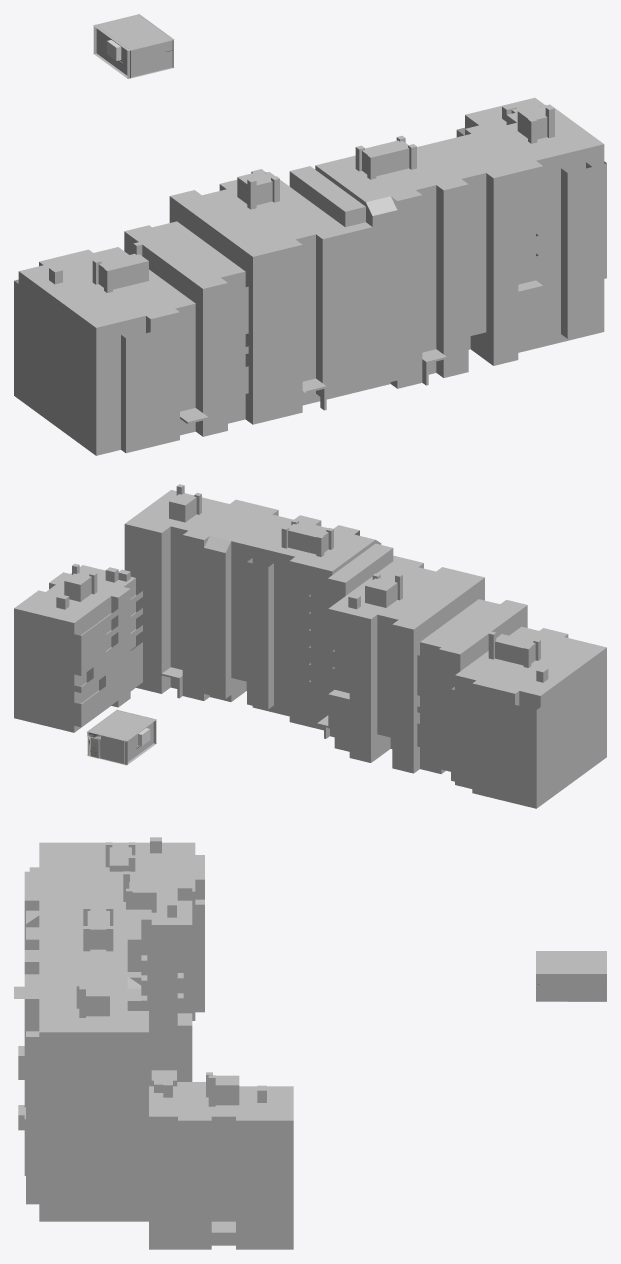
File: 卧室啊.fbx
3 renders of one model, top to bottom at view 1: azimuth 30°, elevation 25°; view 2: azimuth 150°, elevation 25°; view 3: azimuth 270°, elevation 25°, orthographic. The views are drawn at different scales.
Visible parts, largest first — view 1: Object_20, Object_28, Object_15; view 2: Object_20, Object_28, Object_15; view 3: Object_20, Object_28, Object_15.
Boxes of the visible parts, x1,y1,x2,y2 form: Object_20: [14, 97, 606, 455]; Object_28: [93, 26, 173, 78]; Object_15: [93, 14, 174, 50]; Object_20: [14, 484, 606, 808]; Object_28: [87, 720, 156, 764]; Object_15: [87, 709, 156, 741]; Object_20: [14, 837, 293, 1249]; Object_28: [536, 974, 606, 1001]; Object_15: [536, 951, 606, 973].
Size of the model in its own units: 6078 by 2169 by 5352.
